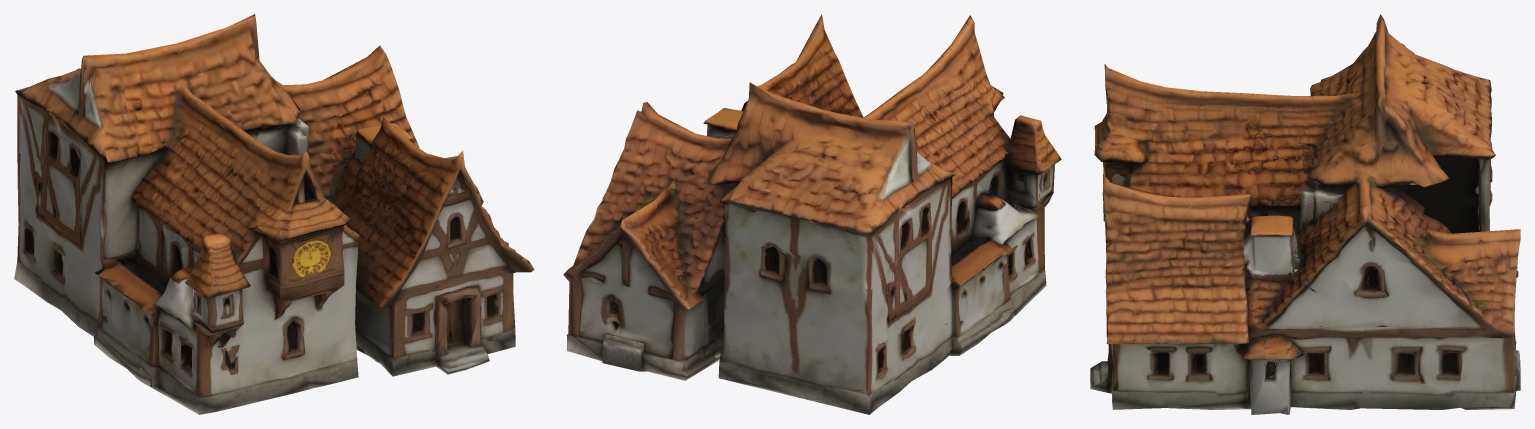
The model's file is poi_town.glb.
3 renders of one model, left to right at view 1: azimuth 30°, elevation 25°; view 2: azimuth 150°, elevation 25°; view 3: azimuth 270°, elevation 25°, orthographic. The views are drawn at different scales.
Visible parts, largest first — view 1: Village; view 2: Village; view 3: Village.
Part boxes in pixels (x1,y1,x2,y2): Village: (14,14,534,414); Village: (563,14,1061,414); Village: (1090,14,1520,414).
Size of the model in its own units: 1.67 by 1.25 by 1.91.
1 material, 1 textured.
